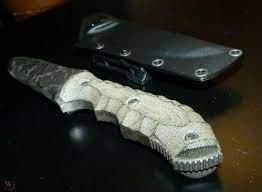Knife: (8, 57, 224, 179)
